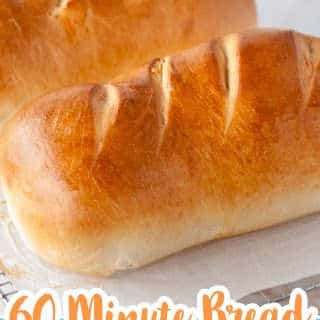Bread: (8, 23, 319, 280)
